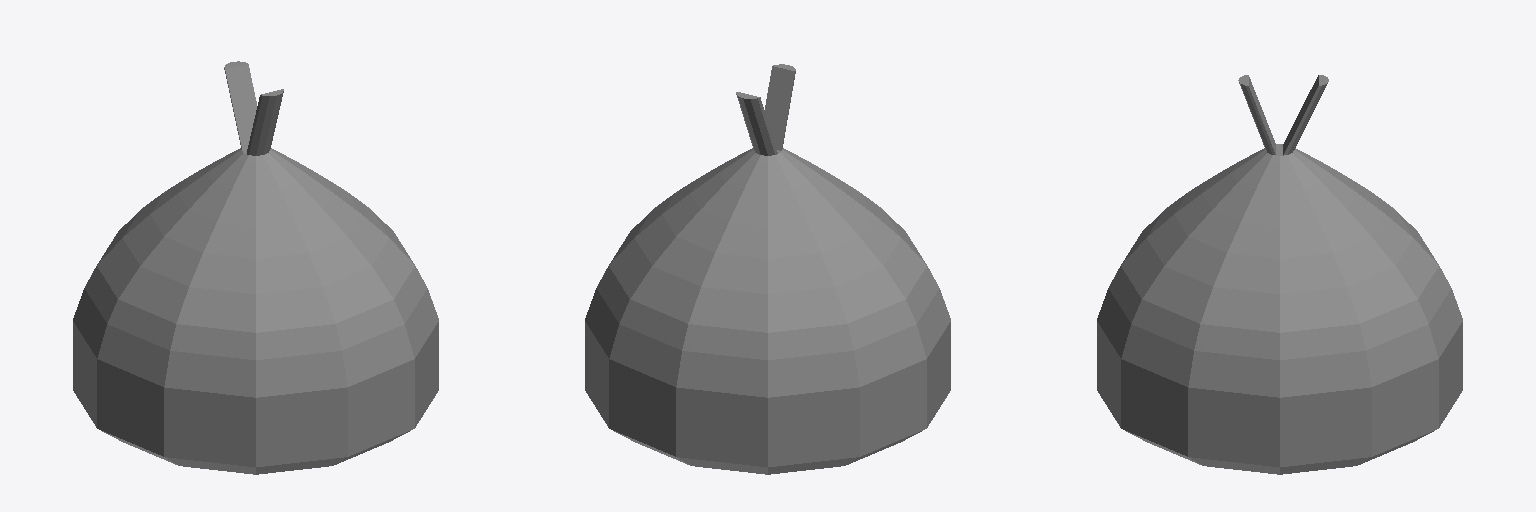
File: Capullo.obj
The picture shows the model from 3 angles: view 1: azimuth 30°, elevation 25°; view 2: azimuth 150°, elevation 25°; view 3: azimuth 270°, elevation 25°; orthographic projection.
Visible parts, largest first — view 1: Capullo; view 2: Capullo; view 3: Capullo.
Boxes of the visible parts, x1,y1,x2,y2 form: Capullo: [73, 61, 438, 474]; Capullo: [585, 64, 950, 474]; Capullo: [1097, 75, 1462, 474].
Size of the model in its own units: 153 by 162 by 153.